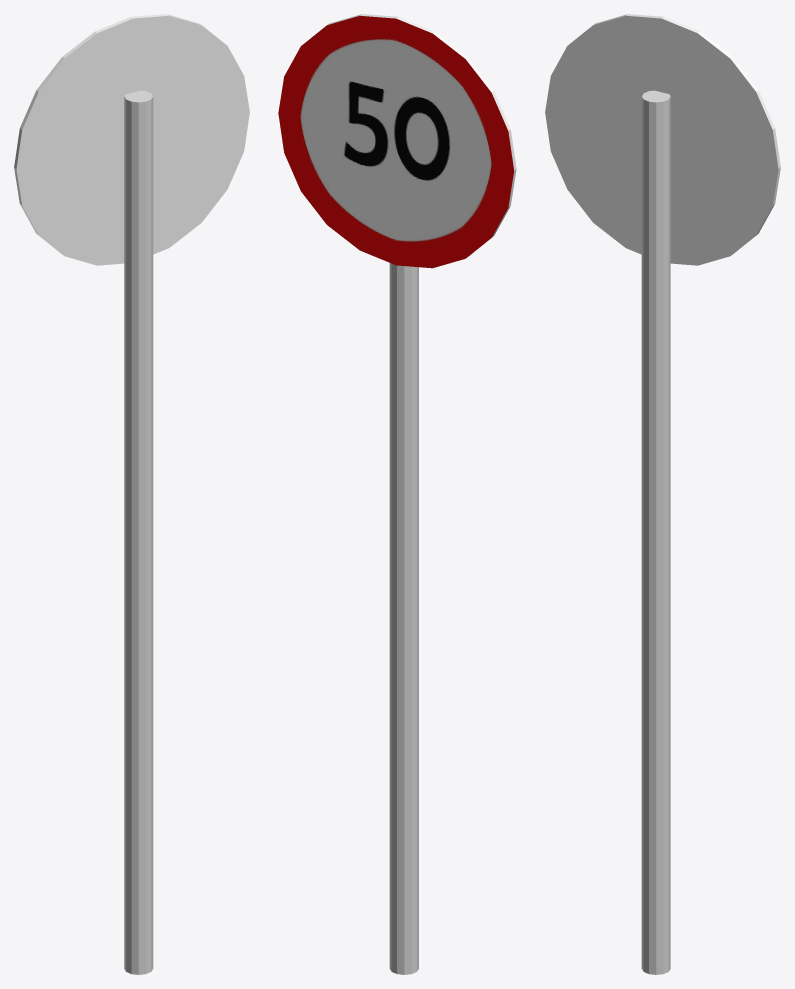
File: SpeedSign.fbx
The picture shows the model from 3 angles, left to right: view 1: azimuth 30°, elevation 25°; view 2: azimuth 150°, elevation 25°; view 3: azimuth 330°, elevation 25°; orthographic projection.
Visible parts, largest first — view 1: Sign, Pipe; view 2: Sign, Pipe; view 3: Sign, Pipe.
Boxes of the visible parts, <box> form: Sign: <box>14,14,249,265</box>; Pipe: <box>124,90,153,974</box>; Sign: <box>278,14,516,268</box>; Pipe: <box>389,263,418,974</box>; Sign: <box>545,14,780,265</box>; Pipe: <box>641,90,670,974</box>.
Bounding box in the file's own units: 56 × 217 × 6.3.
Materials: 1 (1 with a texture image).
